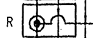Single Phase Tap-Off Unit: (19, 2, 80, 38)
